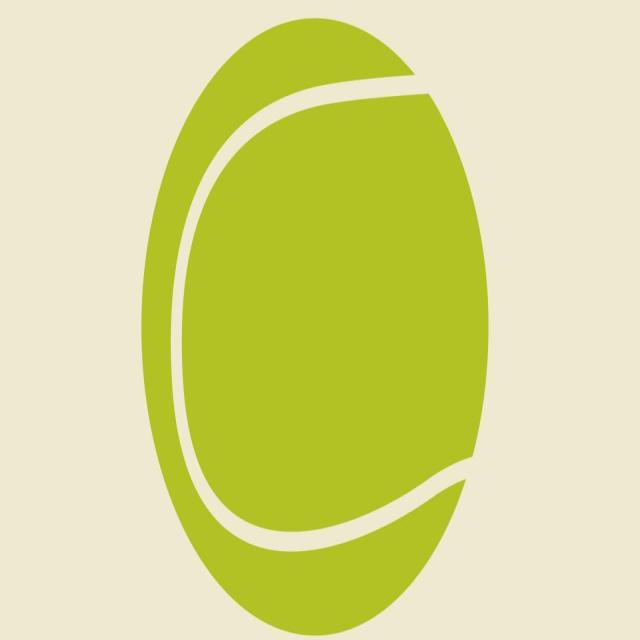ball: (138, 14, 491, 640)
